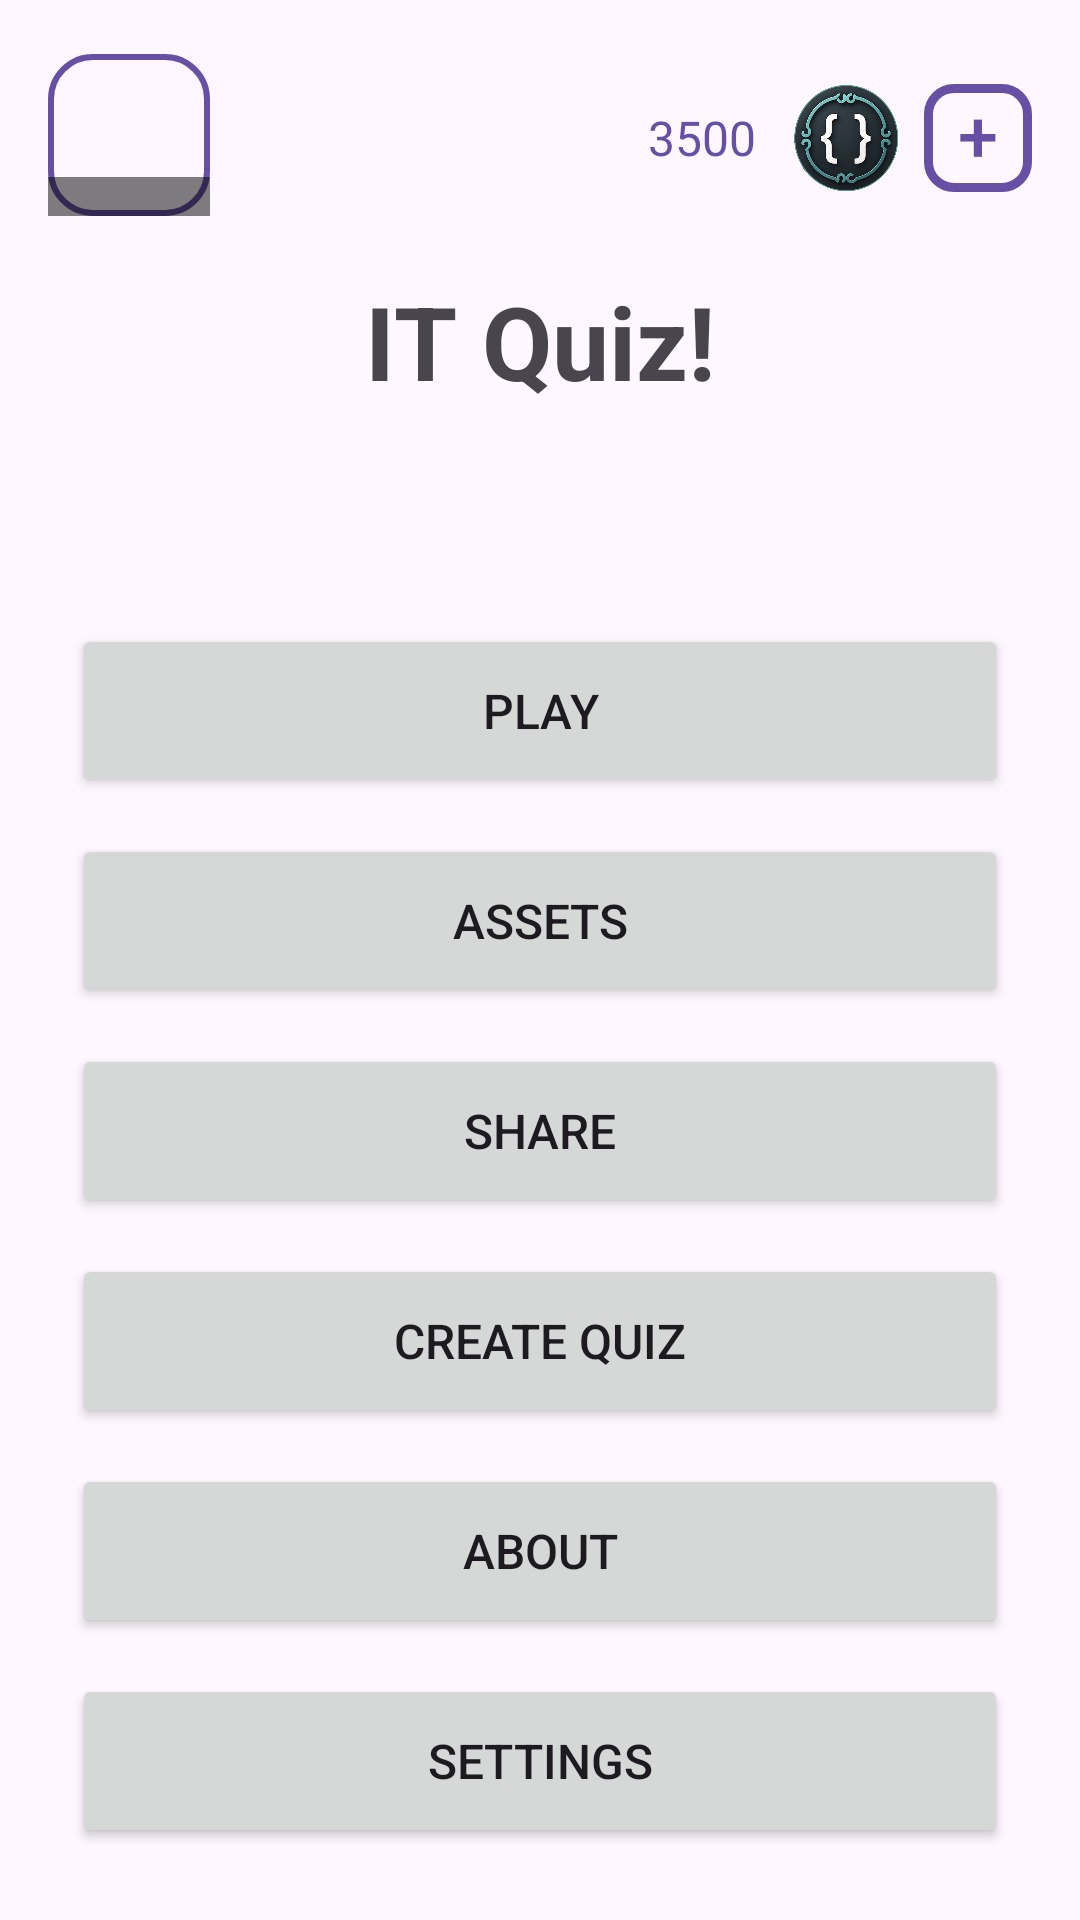

Point at icon controls on the screen. Image size 1080 x 1920, points as [x,y].
Game currency: [846,138]
